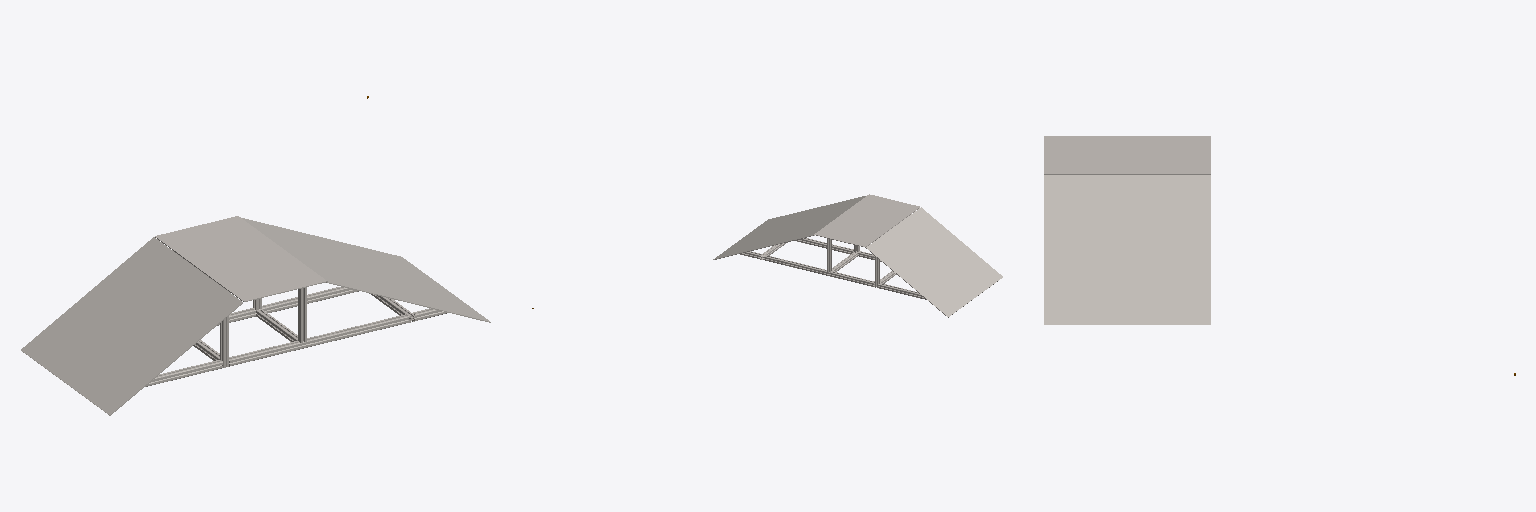
The robot description file, URDF, robot "myrobot":
<?xml version="1.0" encoding="utf-8"?>
<!-- This URDF was automatically created by SolidWorks to URDF Exporter! Originally created by [author] ([email redacted]) 
     Commit Version: 1.6.0-4-g7f85cfe  Build Version: 1.6.7995.38578
     For more information, please see http://wiki.ros.org/sw_urdf_exporter -->
<robot
  name="myrobot">


    <link name="world">
    </link>

  <link name="world_link" >
    <visual>
        <geometry>
            <box size = "0.01 0.01 0.01" />
        </geometry>
        <origin xyz="0 0 0" rpy="0 0 0"/>
        <material name="yellow">
            <color rgba="0.5 0.3 0 0.5"/>
        </material>
    </visual>
    <!--collision>
      <origin
        xyz="0 0 0"
        rpy="0 0 0" />
      <geometry>
        <box size = "1 1 0.01" />
      </geometry>
    </collision-->
  </link>

    <joint name="world_joint" type="fixed">
        <parent link="world"/>
        <child link="world_link"/>
    </joint>

    <joint name="base_joint" type="fixed">
        <parent link="world_link"/>
        <child link="base_link"/>
    </joint>


  <link
    name="base_link">
    <inertial>
      <origin
        xyz="-2.08131290615984 0.197841032692482 2.31889835967013"
        rpy="0 0 0" />
      <mass
        value="56.9098158244031" />
      <inertia
        ixx="3.90373688331151"
        ixy="0.243600030388581"
        ixz="4.21498726509661E-09"
        iyy="6.47511950702011"
        iyz="-1.25668814373493E-08"
        izz="4.06692891532849" />
    </inertial>
    <visual>
      <origin
        xyz="0 0 0"
        rpy="0 0 0" />
      <geometry>
        <mesh
          filename="package://whell_describe/meshes/theslope.STL" />
      </geometry>
      <material
        name="">
        <color
          rgba="0.776470588235294 0.756862745098039 0.737254901960784 1" />
      </material>
    </visual>
    <collision>
      <origin
        xyz="0 0 0"
        rpy="0 0 0" />
      <geometry>
        <mesh
          filename="package://whell_describe/meshes/theslope.STL" />
      </geometry>
    </collision>
  </link>



    <gazebo reference="base_link">
        <mu1>7</mu1>
        <mu2>7</mu2>
        <self_collide>1</self_collide>
        <kp value="1000000.0"/>
        <kd value="1.0"/>
        <material>Gazebo/Indigo</material>
    </gazebo>


</robot>

--- Render facts (derived) ---
The picture shows the robot from 3 angles, left to right: view 1: azimuth 30°, elevation 25°; view 2: azimuth 150°, elevation 25°; view 3: azimuth 270°, elevation 25°; orthographic projection.
Robot: myrobot — 3 links, 2 joints (2 fixed); root link world; default pose: every joint at zero.
Links seen in each view (by area): view 1: base_link; view 2: base_link; view 3: base_link.
Boxes of the visible links, x1=… form: base_link: x1=21, y1=216, x2=490, y2=415; base_link: x1=713, y1=194, x2=1002, y2=317; base_link: x1=1044, y1=136, x2=1210, y2=324.
Size in the robot's own frame: 3.3 by 2.82 by 0.505 metres.
Meshes: 1 distinct files referenced, 1 mesh visuals loaded (1 binary STL).
